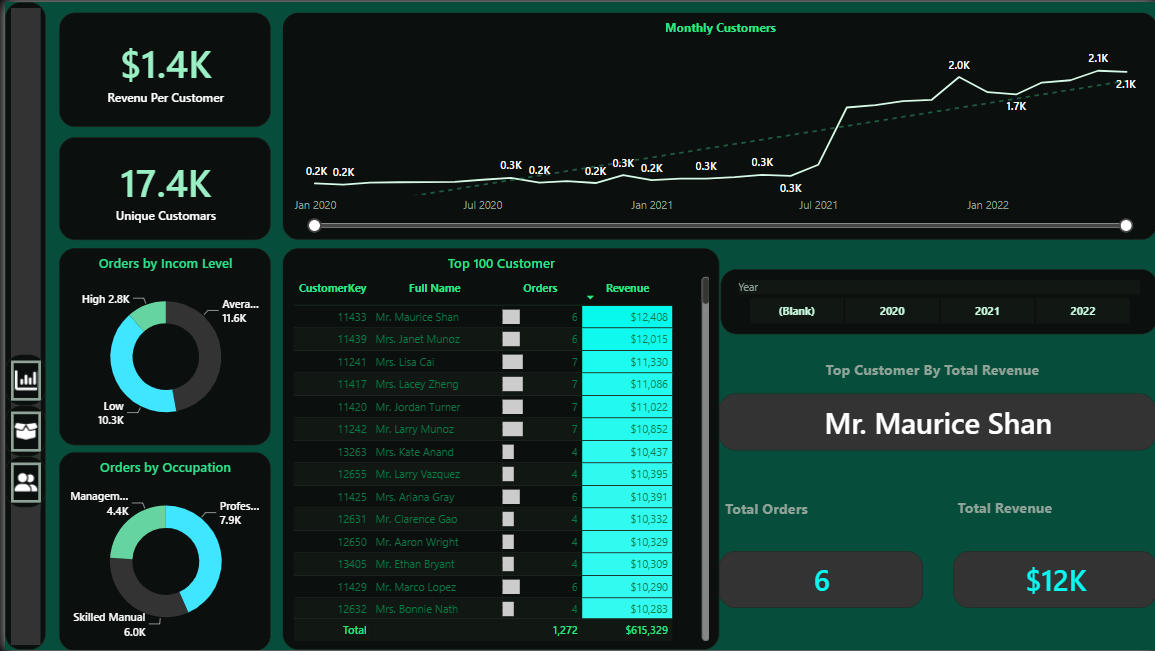

Layout of this report page (visuals, bound fields, positions):
{"tool":"powerbi","page":{"name":"Customer Dashboard","canvas":[1280,720],"ordinal":1},"visuals":[{"type":"shape","box":[0,0,45,720],"z":0},{"type":"card","fields":{"Values":["Measure Table.Total Costumars"]},"box":[60.4,149.5,235.4,114.5],"z":4000},{"type":"card","fields":{"Values":["Measure Table.Average Revenu Per Customer"]},"box":[60.4,11.1,235.4,127.2],"z":5000},{"type":"lineChart","title":"Monthly Customers","fields":{"Category":["Calendar Lookup.Date Hierarchy.Start of Year","Calendar Lookup.Date Hierarchy.Start of Month","Calendar Lookup.Date Hierarchy.Start of Week","Calendar Lookup.Date Hierarchy.Date"],"Y":["Measure Table.Total Costumars"]},"box":[308.6,11.1,971.9,252.9],"z":6000},{"type":"donutChart","title":"Orders by Incom Level","fields":{"Category":["Customer Lookup.Incom Level"],"Y":["Measure Table.Total Orders"]},"box":[60.4,273.6,235.4,219.5],"z":7000},{"type":"donutChart","title":"Orders by Occupation","fields":{"Category":["Customer Lookup.Occupation"],"Y":["Measure Table.Total Orders"]},"box":[60.4,499.5,235.4,221.1],"z":8000},{"type":"tableEx","title":"Top 100 Customer","fields":{"Values":["Customer Lookup.CustomerKey","Customer Lookup.Full Name","Measure Table.Total Orders","Measure Table.Total Revenue"]},"box":[308.6,273.6,485.1,447],"z":9000},{"type":"card","fields":{"Values":["Min(Customer Lookup.Full Name)"]},"box":[793.7,435.8,485.4,63.1],"z":10000},{"type":"card","fields":{"Values":["Measure Table.Total Orders"]},"box":[794,610.6,226.5,63.1],"z":11000},{"type":"card","fields":{"Values":["Measure Table.Total Revenue"]},"box":[1052.9,609.4,226.5,63.1],"z":12000},{"type":"textbox","box":[906.6,391.3,268.6,32.4],"z":13000},{"type":"textbox","box":[794.4,546.4,237.8,38.8],"z":14000},{"type":"textbox","box":[1053.3,545.1,178,38.8],"z":15000},{"type":"slicer","fields":{"Values":["Calendar Lookup.Year"]},"box":[795.3,297.4,485.4,72.8],"z":16000},{"type":"actionButton","box":[0,504.8,45.3,56.6],"z":17000},{"type":"actionButton","box":[0,448.2,45.3,56.6],"z":18000},{"type":"actionButton","box":[0,391.6,45.3,56.6],"z":19000}]}

Visuals, with their boxes in screenshot pixels (x1, y1, x2, y2), scaled from the page's 1280x720 canvas onto the 1155x651 screenshot:
shape: <box>0,0,41,650</box>
card - Measure Table.Total Costumars: <box>55,135,267,239</box>
card - Measure Table.Average Revenu Per Customer: <box>55,10,267,125</box>
"Monthly Customers" lineChart: <box>278,10,1154,239</box>
"Orders by Incom Level" donutChart: <box>55,247,267,446</box>
"Orders by Occupation" donutChart: <box>55,452,267,650</box>
"Top 100 Customer" tableEx: <box>278,247,716,650</box>
card - Min(Customer Lookup.Full Name): <box>716,394,1154,451</box>
card - Measure Table.Total Orders: <box>716,552,921,609</box>
card - Measure Table.Total Revenue: <box>950,551,1154,608</box>
textbox: <box>818,354,1060,383</box>
textbox: <box>717,494,931,529</box>
textbox: <box>950,493,1111,528</box>
slicer - Calendar Lookup.Year: <box>718,269,1154,335</box>
actionButton: <box>0,456,41,508</box>
actionButton: <box>0,405,41,456</box>
actionButton: <box>0,354,41,405</box>
